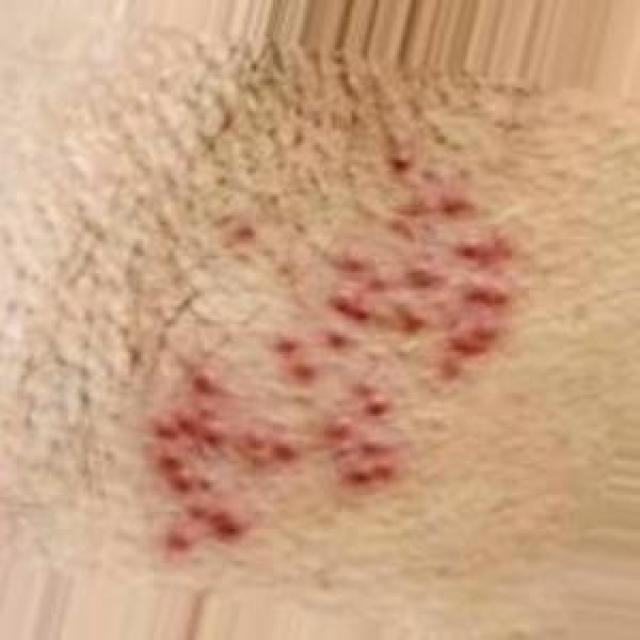Shingles: (153, 147, 516, 569)
